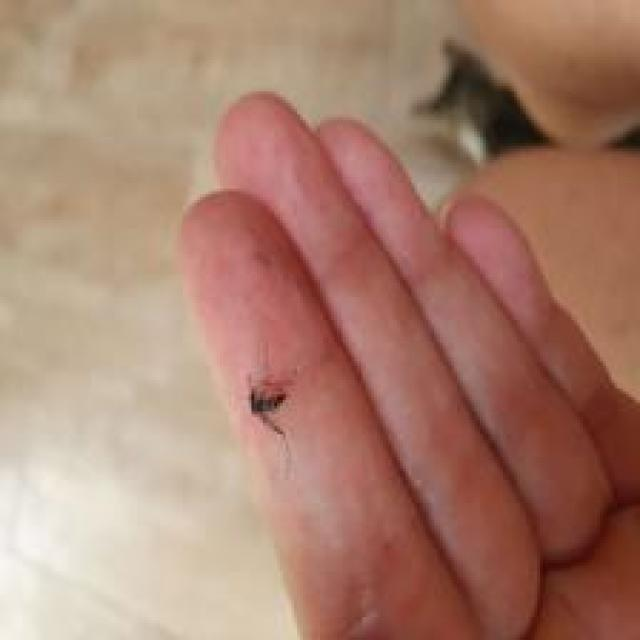Aedes albopictus: (408, 36, 640, 173)
